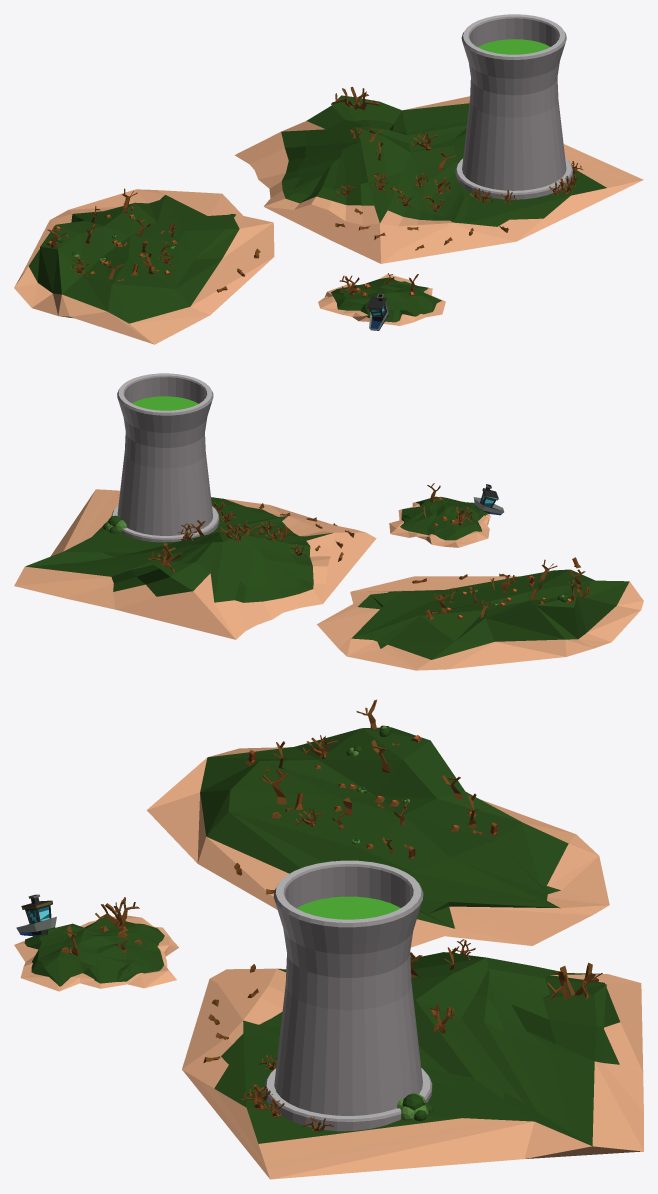
File: BadIsland.fbx
The picture shows the model from 3 angles, top to bottom: view 1: azimuth 30°, elevation 25°; view 2: azimuth 150°, elevation 25°; view 3: azimuth 270°, elevation 25°; orthographic projection. The views are drawn at different scales.
Parts seen in each view (by area): view 1: IslaArbustos, IslaArboles, Planta, IslaPrincipal, Cube.001; view 2: IslaArbustos, IslaArboles, Planta, IslaPrincipal, Cube.001; view 3: IslaArbustos, IslaArboles, Planta, IslaPrincipal, Cube.001, arbusto.019, Icosphere.064.
Part boxes in pixels (x1,y1,x2,y2): IslaArbustos: (235,95,643,263); IslaArboles: (14,189,274,344); Planta: (455,14,572,199); IslaPrincipal: (318,274,445,325); Cube.001: (367,293,388,330); IslaArbustos: (14,489,376,639); IslaArboles: (317,569,643,670); Planta: (111,373,219,542); IslaPrincipal: (389,496,490,547); Cube.001: (473,484,504,515); IslaArbustos: (182,952,643,1179); IslaArboles: (147,727,609,947); Planta: (265,860,432,1131); IslaPrincipal: (14,915,178,991); Cube.001: (16,894,56,936); arbusto.019: (397,1092,433,1120); Icosphere.064: (547,962,602,1000).
Size of the model in its own units: 65373 by 18129 by 41978.
